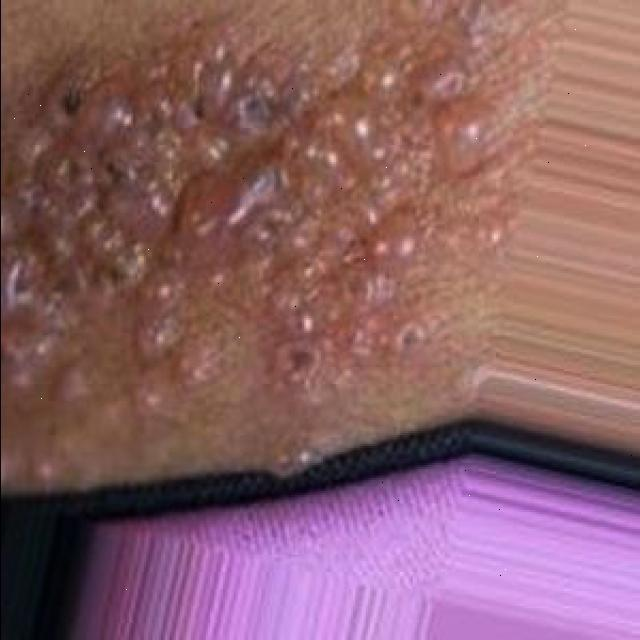Shingles: (0, 27, 511, 437)
